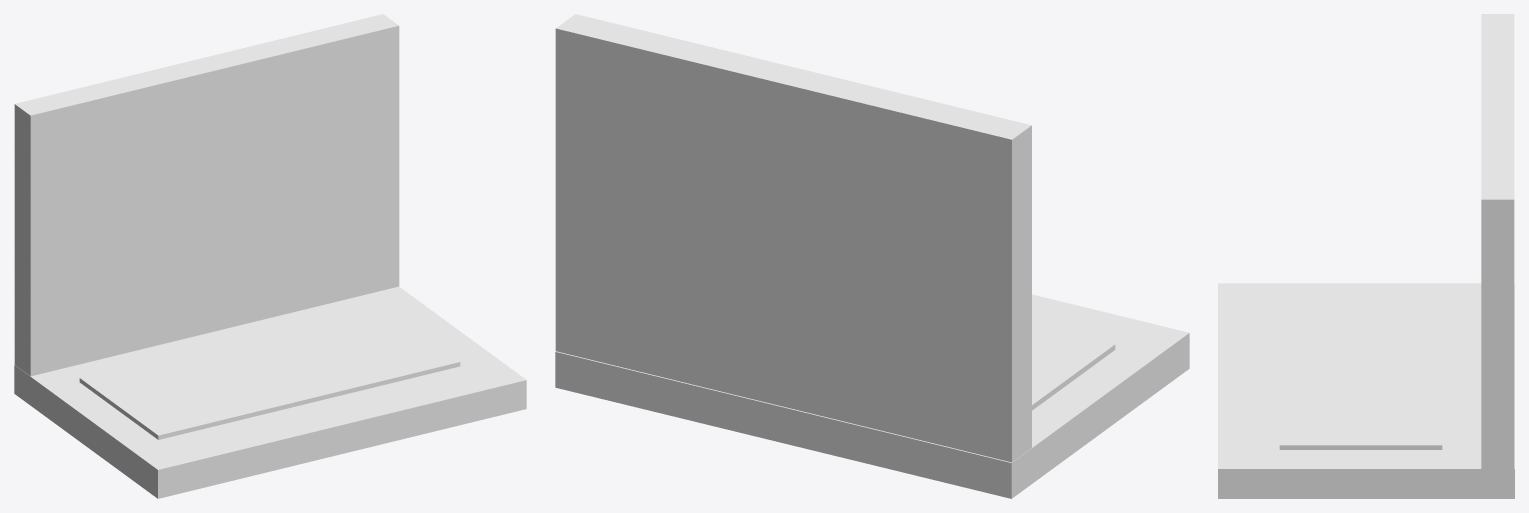
File: Computadora.fbx
3 renders of one model, left to right at view 1: azimuth 30°, elevation 25°; view 2: azimuth 150°, elevation 25°; view 3: azimuth 270°, elevation 25°, orthographic. The views are drawn at different scales.
Visible parts, largest first — view 1: Plane; view 2: Plane; view 3: Plane.
Part boxes in pixels (x1,y1,x2,y2): Plane: [14, 14, 526, 498]; Plane: [555, 14, 1189, 498]; Plane: [1218, 14, 1514, 498].
Size of the model in its own units: 171 by 128 by 115.
